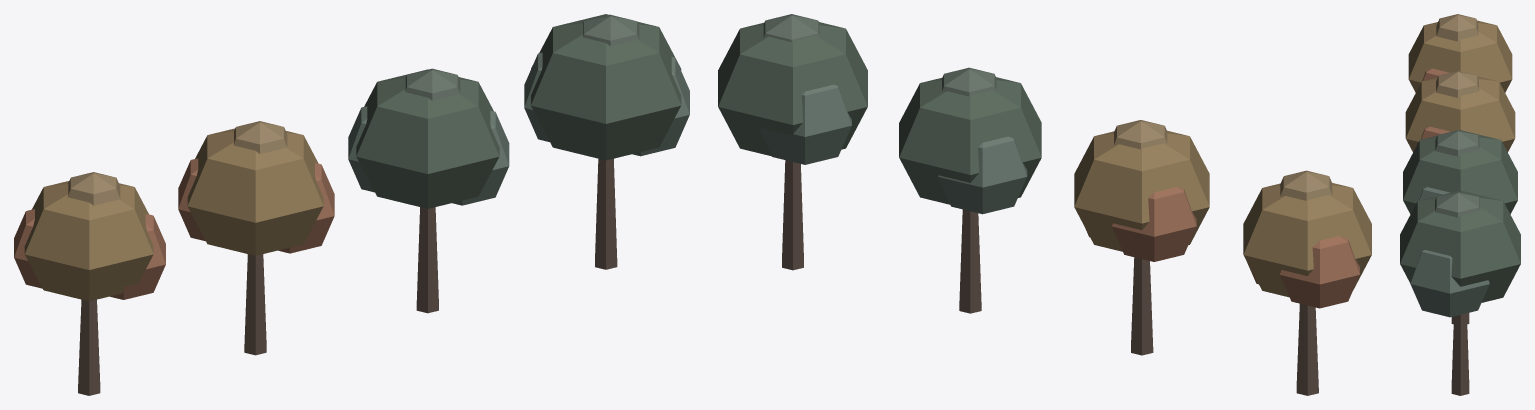
Rendered from arbol.glb.
The picture shows the model from 3 angles, left to right: view 1: azimuth 30°, elevation 25°; view 2: azimuth 150°, elevation 25°; view 3: azimuth 270°, elevation 25°; orthographic projection. The views are drawn at different scales.
Visible parts, largest first — view 1: Arbol_420, Arbol_400, Arbol_380_otono, Arbol_360_otono; view 2: Arbol_420, Arbol_400, Arbol_380_otono, Arbol_360_otono; view 3: Arbol_420, Arbol_400, Arbol_380_otono, Arbol_360_otono.
Part boxes in pixels (box(x1,y1,x2,y2)): Arbol_420: box(524, 14, 689, 269); Arbol_400: box(348, 68, 509, 313); Arbol_380_otono: box(178, 121, 334, 355); Arbol_360_otono: box(14, 172, 165, 395); Arbol_420: box(718, 14, 867, 270); Arbol_400: box(899, 67, 1041, 313); Arbol_380_otono: box(1074, 120, 1209, 355); Arbol_360_otono: box(1243, 170, 1371, 395); Arbol_420: box(1400, 190, 1520, 395); Arbol_400: box(1403, 130, 1517, 324); Arbol_380_otono: box(1405, 71, 1515, 152); Arbol_360_otono: box(1408, 14, 1512, 92).
Bounding box in the file's own units: 11.77 × 4.25 × 2.33.
